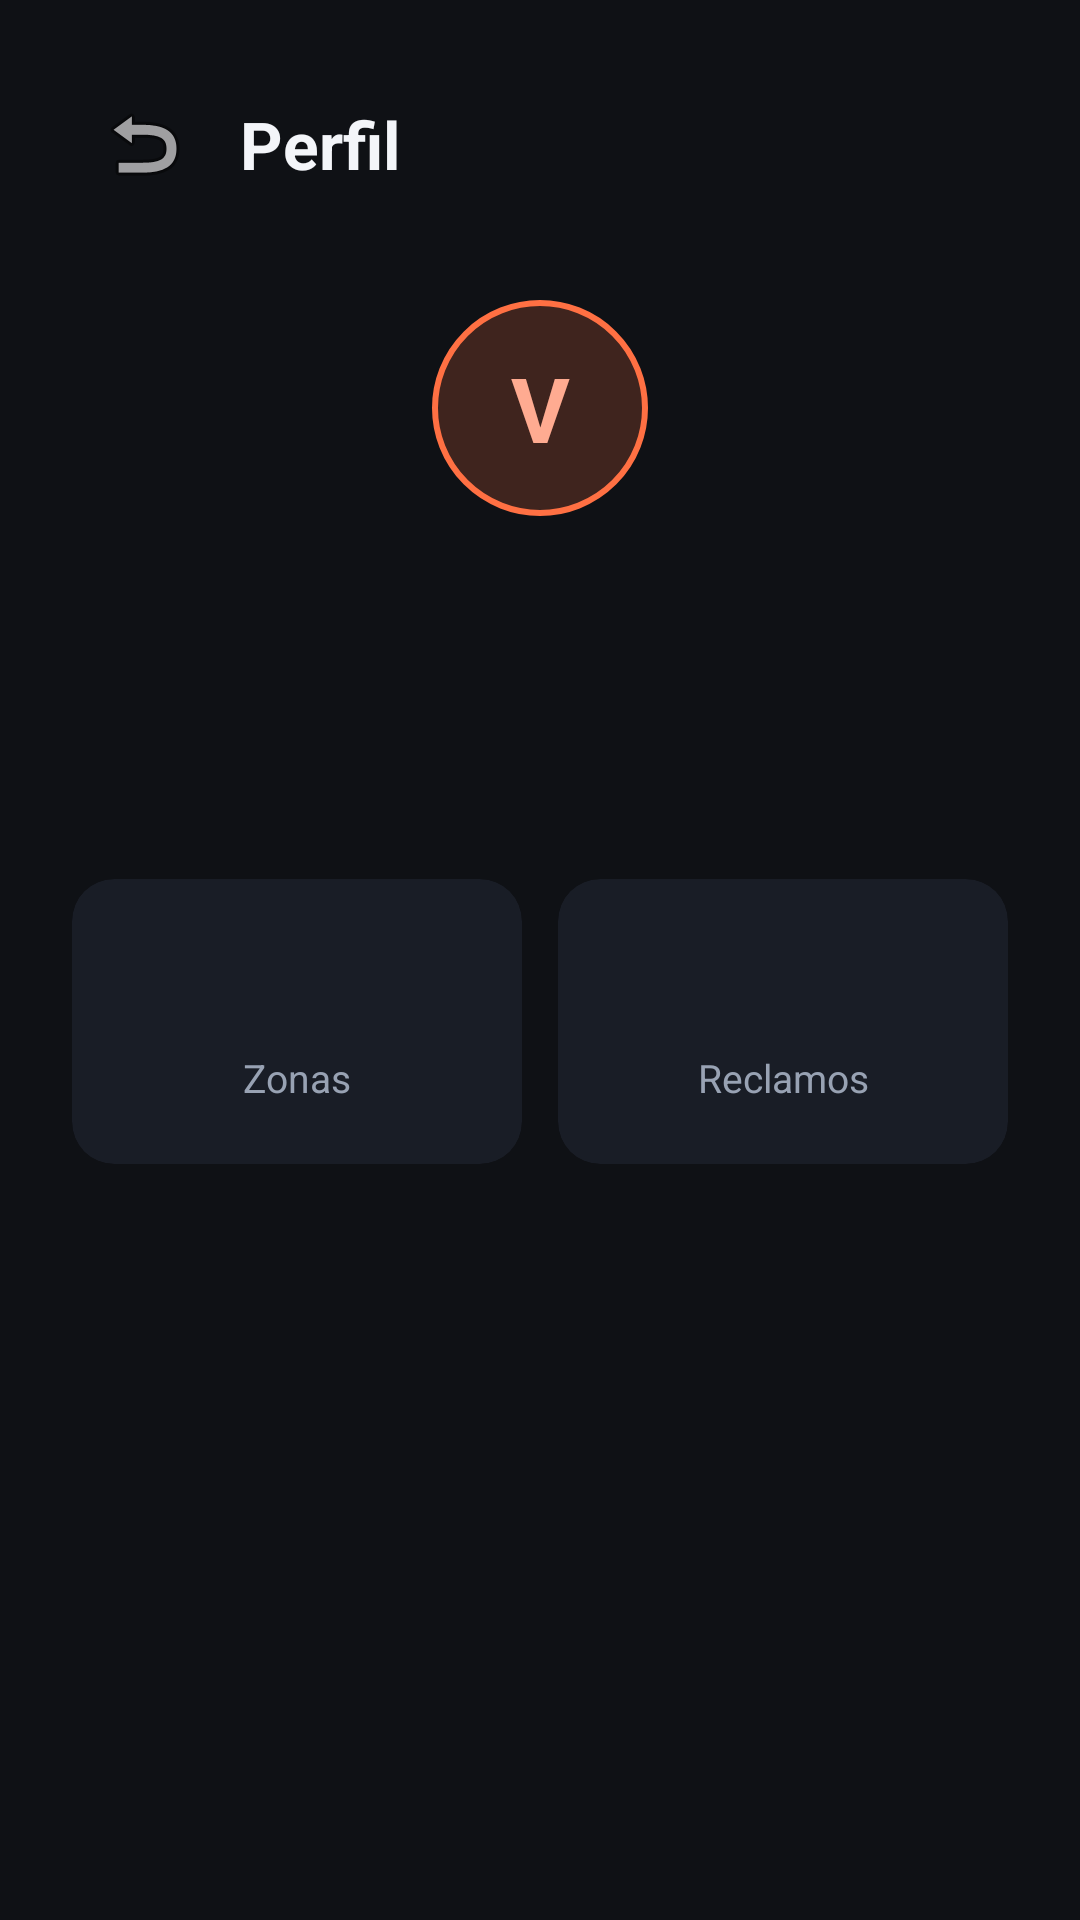

Where icons sit on this 1080w x 1920h app screen, as box=[x1, y1, x2, y2]:
Volver: box=[114, 116, 177, 173]
